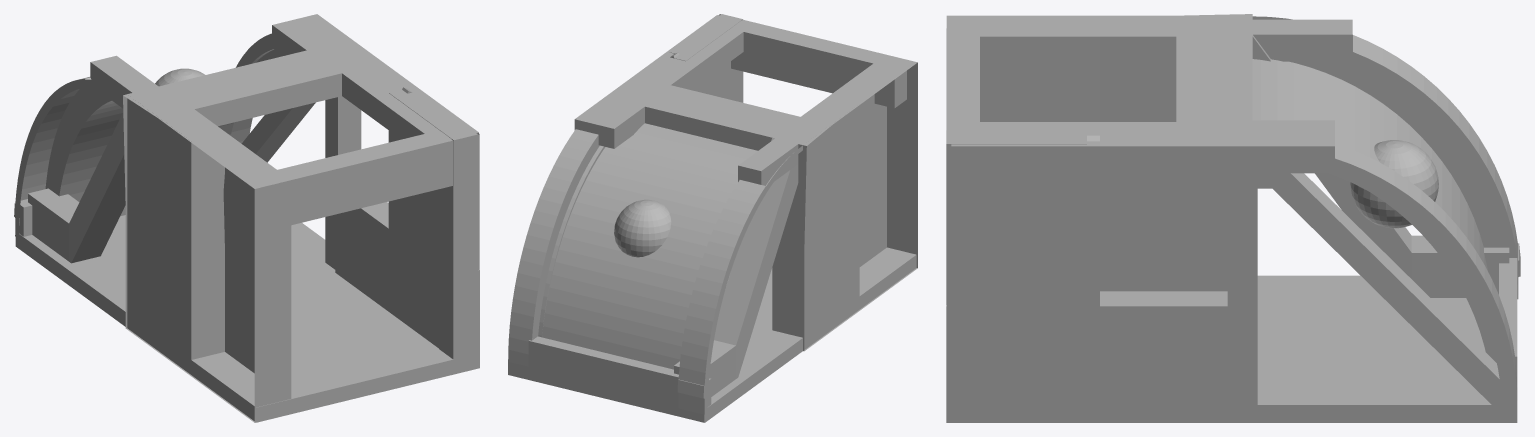
The model's file is Autopilot-Block_Small_Constr2.fbx.
3 views of the same model, side by side, from view 1: azimuth 30°, elevation 25°; view 2: azimuth 150°, elevation 25°; view 3: azimuth 270°, elevation 25° (orthographic). The views are drawn at different scales.
Visible parts, largest first — view 1: Cube.138; view 2: Cube.138; view 3: Cube.138.
Boxes of the visible parts, box(x1,y1,x2,y2) form: Cube.138: box(14, 14, 479, 422); Cube.138: box(508, 14, 917, 422); Cube.138: box(946, 14, 1520, 422).
Bounding box in the file's own units: 0.5125 × 0.5113 × 0.9392.
